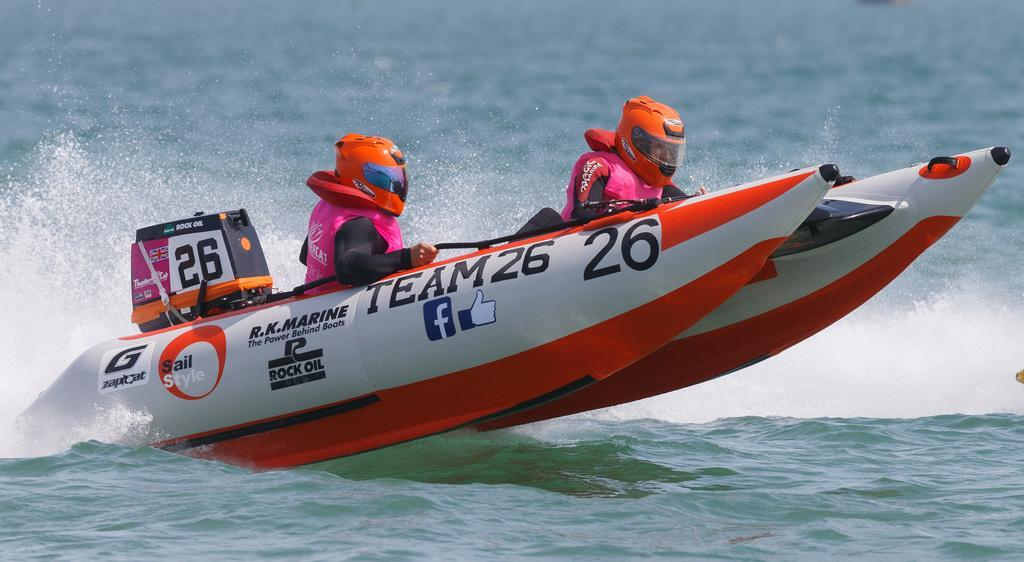helmet: (614, 94, 686, 187), (334, 132, 410, 219)
